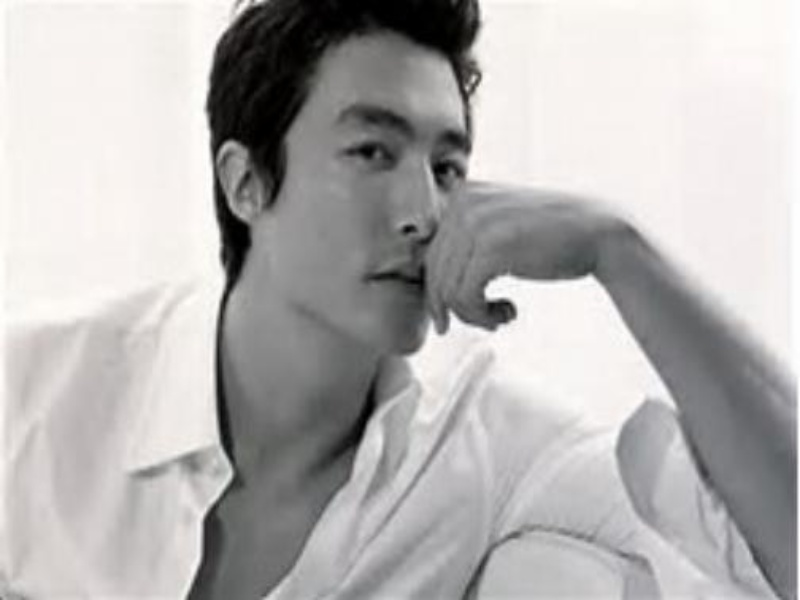TsisyArotava: (273, 31, 517, 365)
